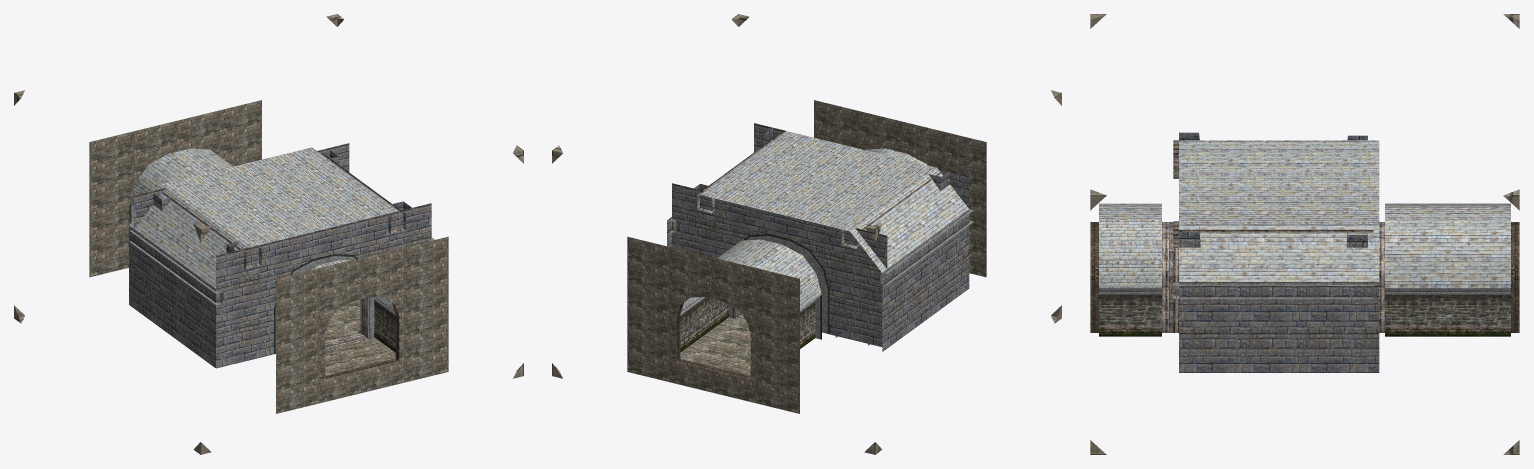
The model's file is lbg_2c.glb.
The picture shows the model from 3 angles, left to right: view 1: azimuth 30°, elevation 25°; view 2: azimuth 150°, elevation 25°; view 3: azimuth 270°, elevation 25°; orthographic projection. The views are drawn at different scales.
Parts seen in each view (by area): view 1: lbg_2c-col; view 2: lbg_2c-col; view 3: lbg_2c-col.
Part boxes in pixels (x1=…): lbg_2c-col: x1=14, y1=14, x2=523, y2=454; lbg_2c-col: x1=552, y1=14, x2=1061, y2=454; lbg_2c-col: x1=1090, y1=14, x2=1519, y2=454.
Size of the model in its own units: 15 by 10 by 15.
Materials: 7 (7 with a texture image).
